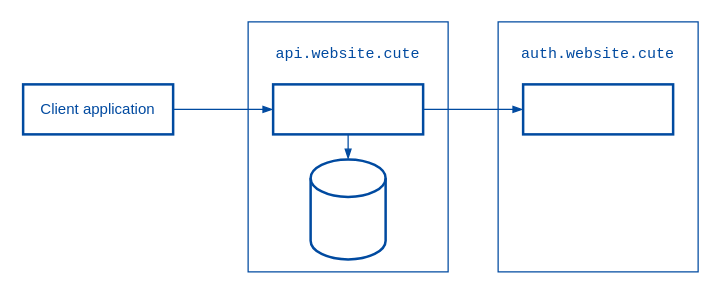
Image size: 720x294. Some labels were removed from this diagram. Here are the shapes that lost their labels. From the top down, the centre of each, then its label:
At pixel 347 108: "Hasura".
At pixel 597 108: "Authentication server".
